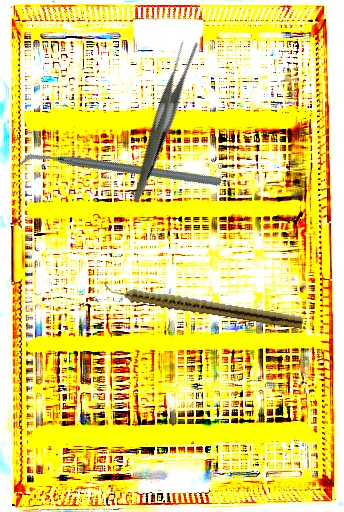Chopper: (16, 83, 224, 260)
Dressing Forceps: (88, 35, 236, 203)
Handpiece: (101, 281, 305, 330)
